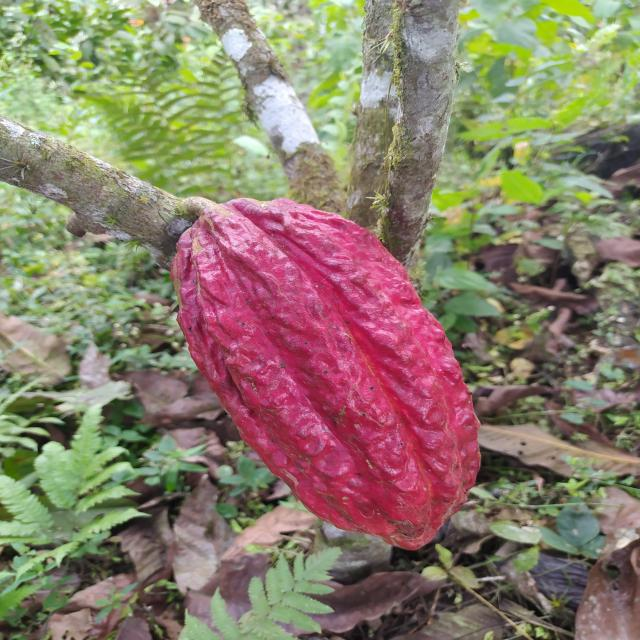Sana: (170, 195, 482, 552)
